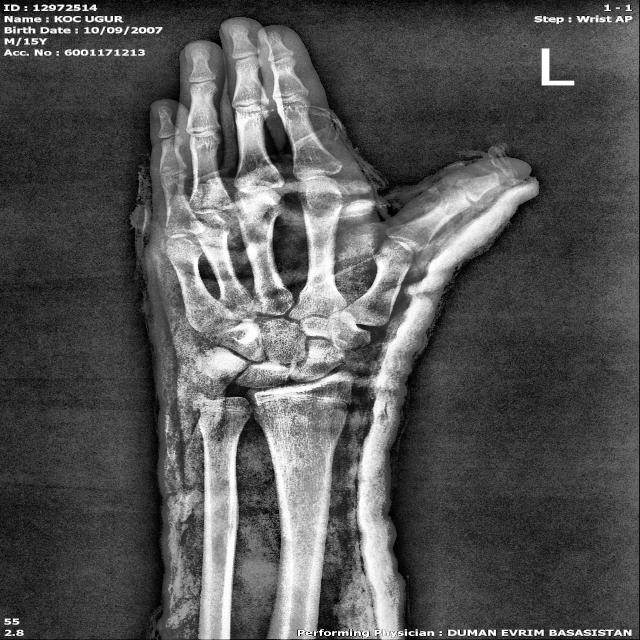Fracture: (249, 388, 364, 417)
